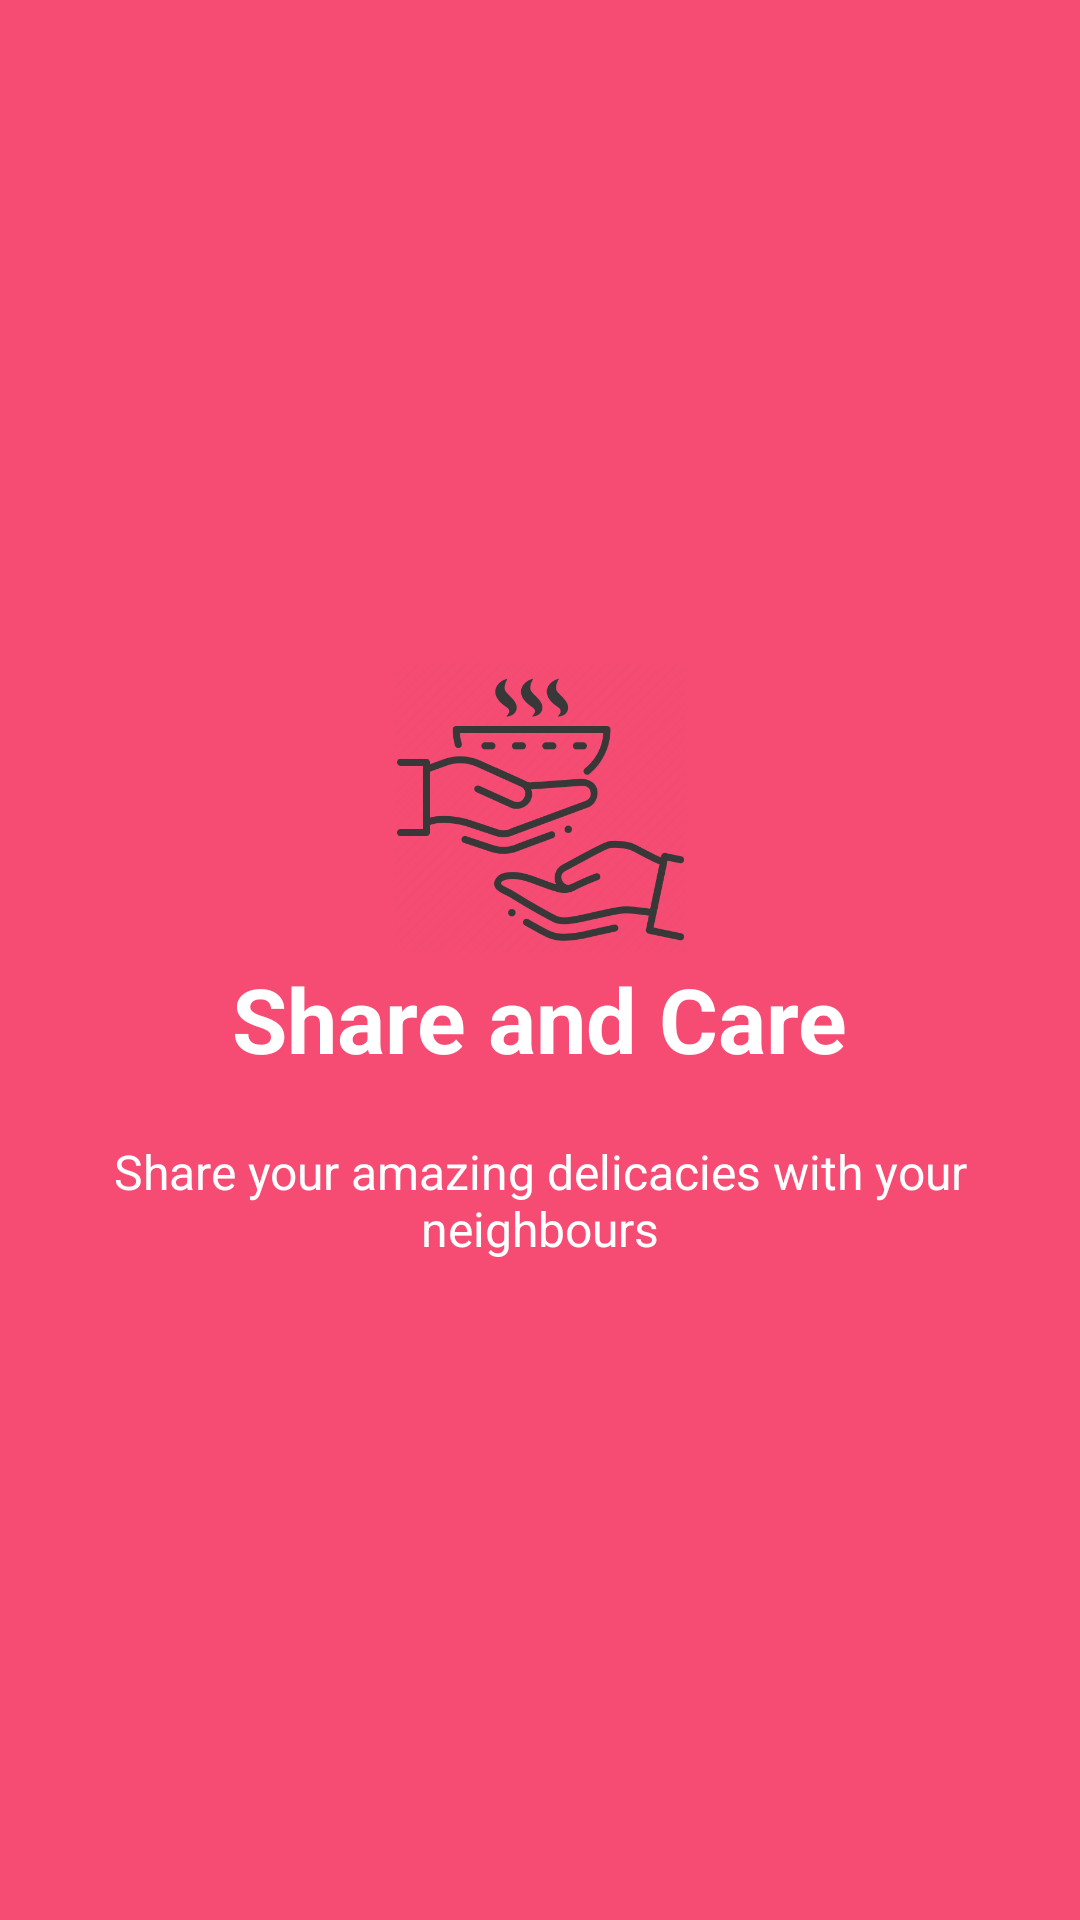

Icons on this 1080*1920 Android screen, each with its box as box=[x1, y1, x2, y2]:
sharefood: box=[397, 678, 684, 941]
